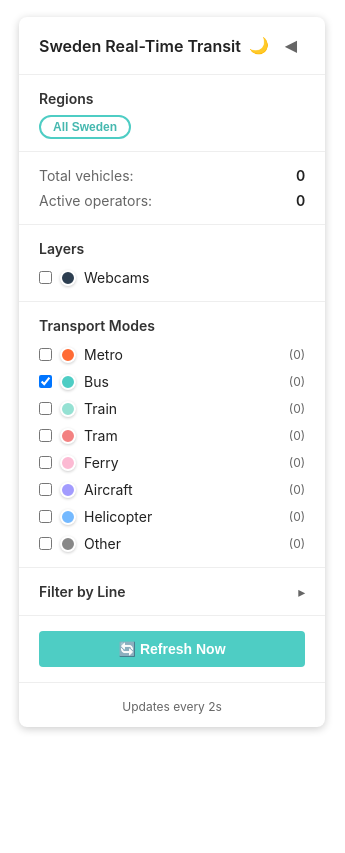
Test: ControlPanel — Favourite star control › renders a favourited chip in a visually distinct (starred) state
Click the heading "Filter by Line": click(82, 592) [39,583,126,600]
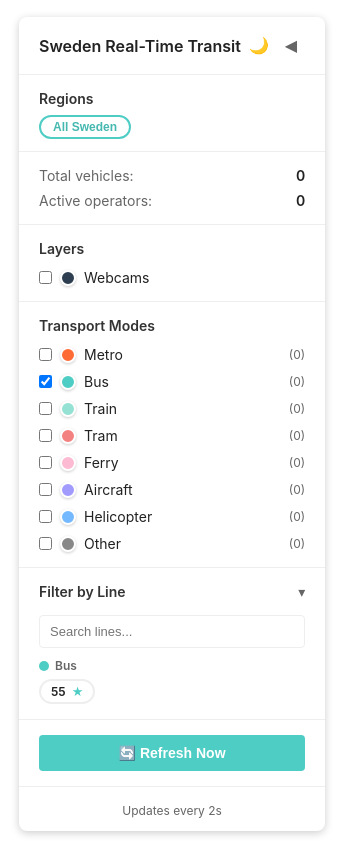
Check: the button named "unfavourite line 55" is shown, box [72,685,83,698]
